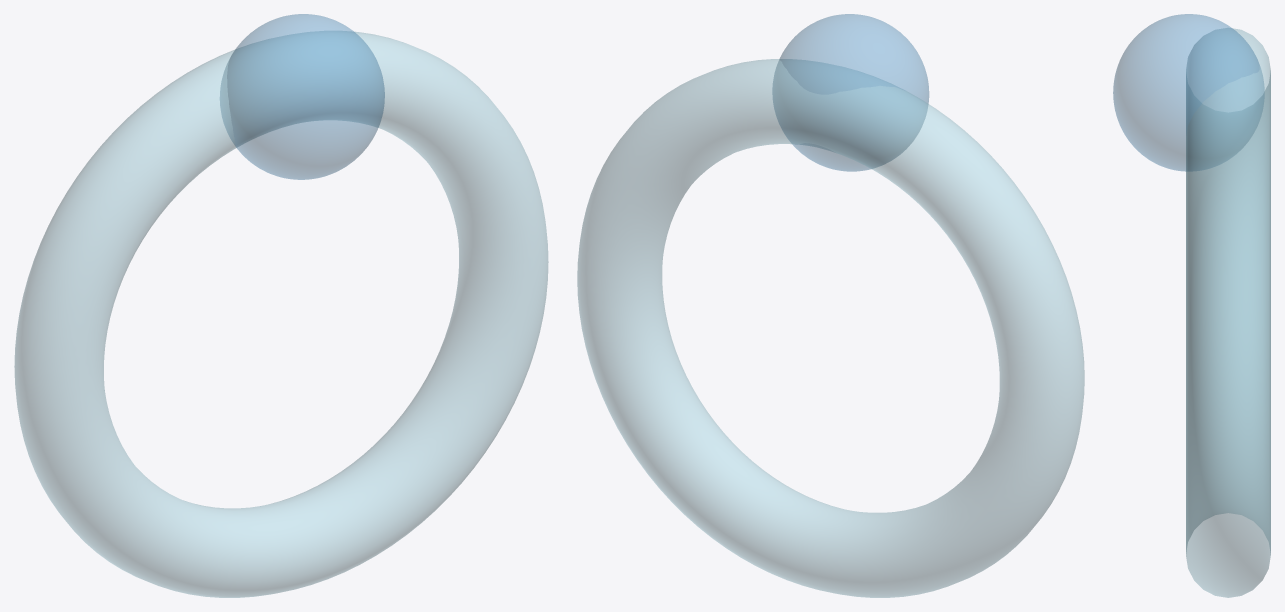
The picture shows the model from 3 angles, left to right: view 1: azimuth 30°, elevation 25°; view 2: azimuth 150°, elevation 25°; view 3: azimuth 270°, elevation 25°; orthographic projection. The views are drawn at different scales.
Visible parts, largest first — view 1: captive-ring, orbit-bead; view 2: captive-ring, orbit-bead; view 3: captive-ring, orbit-bead.
Boxes of the visible parts, box(x1,y1,x2,y2) form: captive-ring: box(14, 31, 548, 597); orbit-bead: box(220, 14, 384, 179); captive-ring: box(577, 59, 1084, 597); orbit-bead: box(772, 14, 928, 171); captive-ring: box(1186, 28, 1270, 597); orbit-bead: box(1113, 14, 1264, 171).
Size of the model in its own units: 1.88 by 2 by 0.52.
